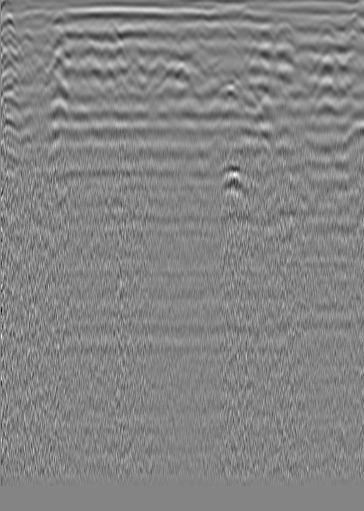가스: (212, 162, 246, 192)
상수: (310, 21, 338, 50)
오수: (17, 27, 37, 47)
우수: (179, 26, 199, 46)
